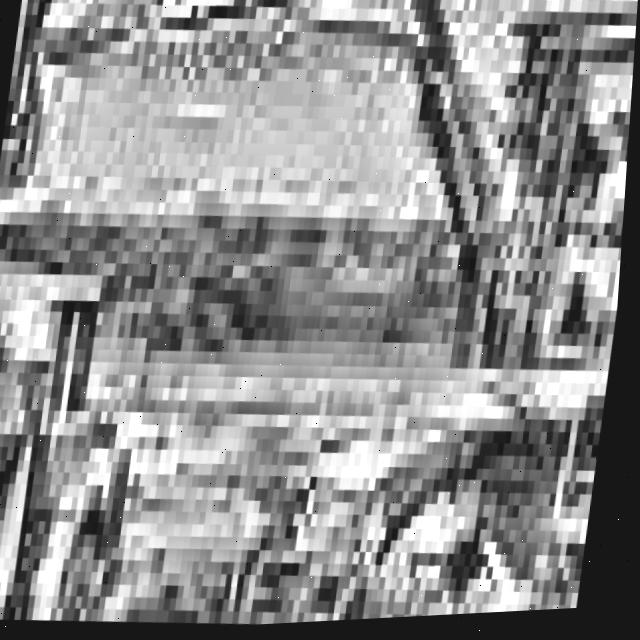excavator: (305, 0, 640, 626)
